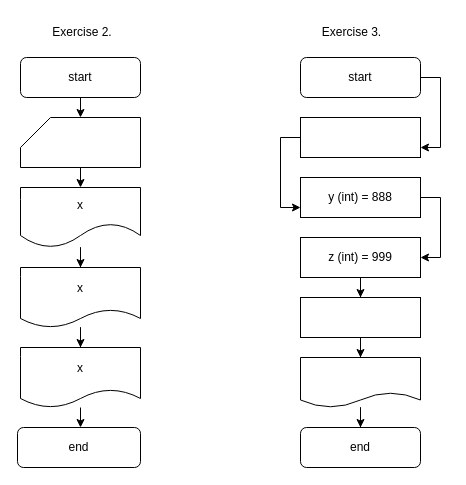
Some shapes in this 466 by 485 pixel diagram are drawn without their labels. The shapes that lost their labels are listed below. From the top down, each one's centre as x and y in pixels, then its label:
At pixel 80 142: "x (int) = ?".
At pixel 360 137: "x (int) = 777".
At pixel 360 317: "result (int) = x * y + z".
At pixel 360 382: "result".
